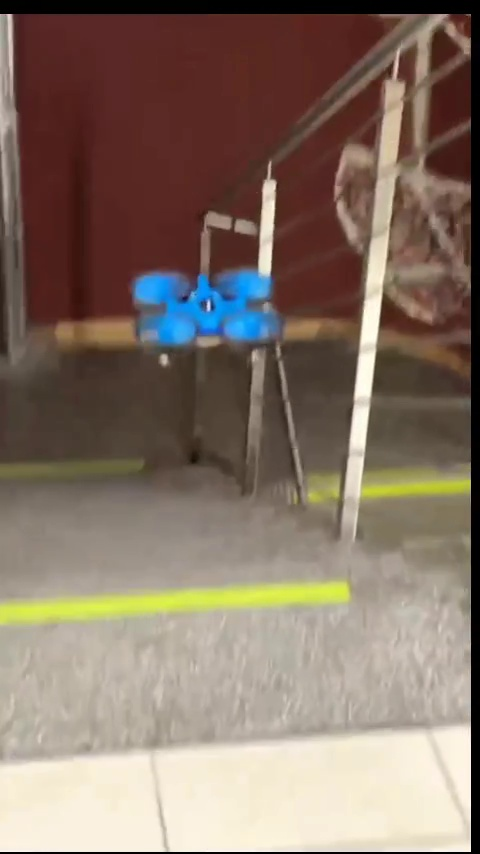drone: (129, 270, 293, 373)
